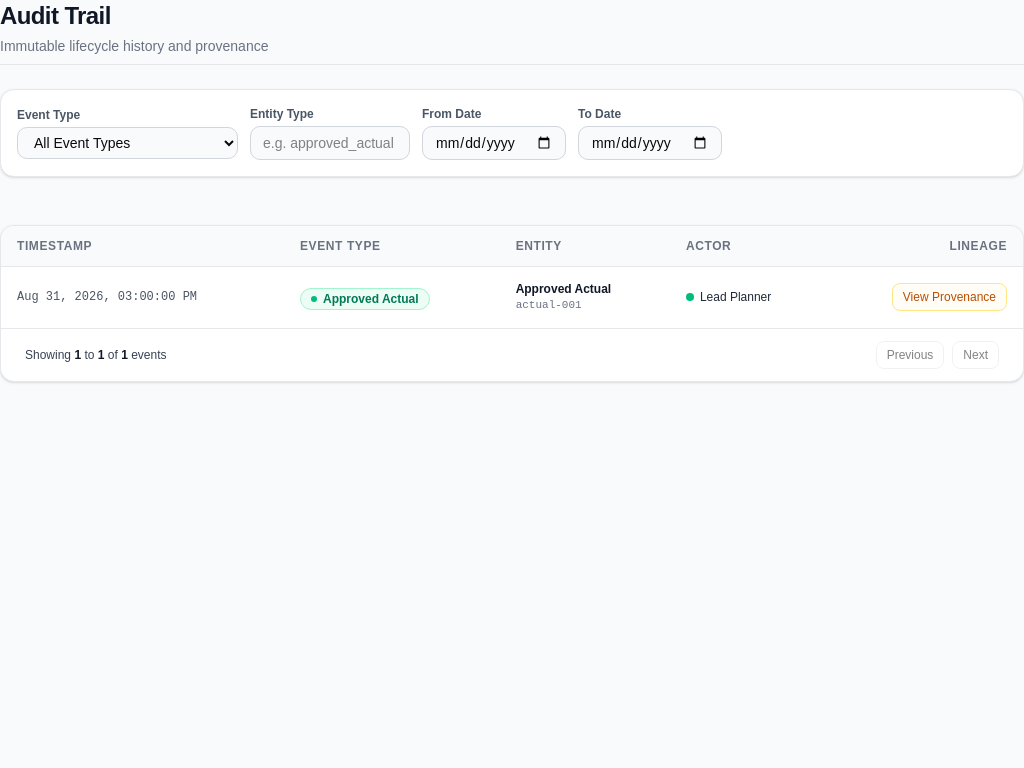
Test: AuditPage › opens provenance drawer when View Provenance is clicked
Click the button "View Provenance" at (949, 297), box [892,283,1007,311]
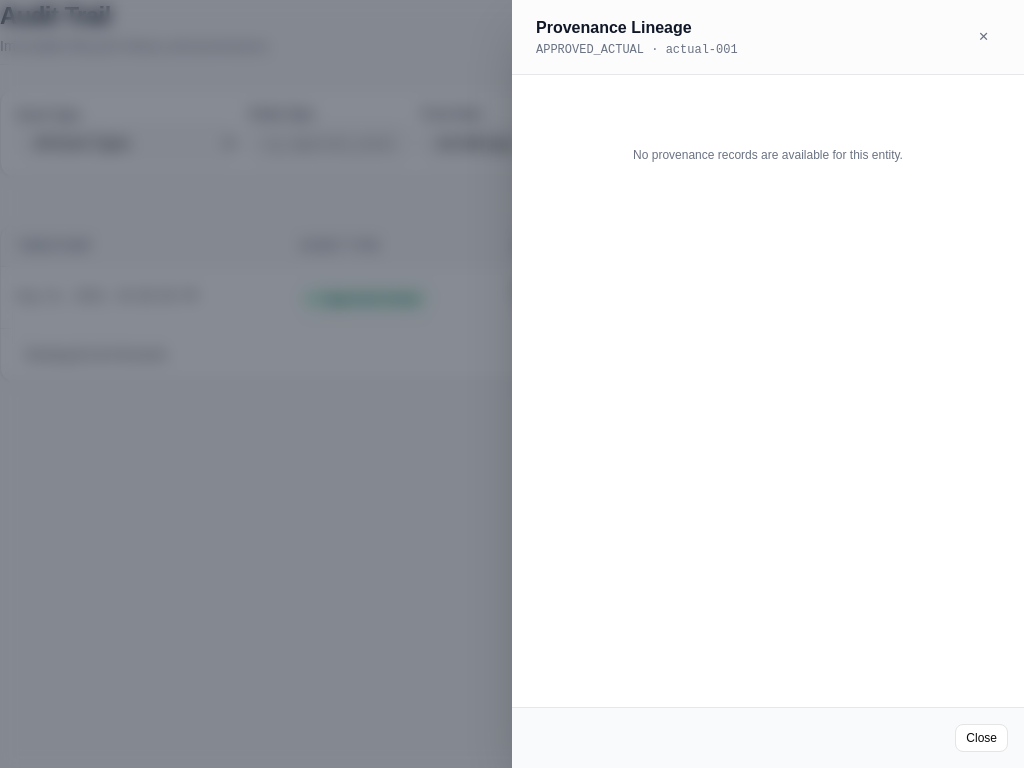
Expected: the heading "Provenance Lineage" is shown, [536,19,692,36]
